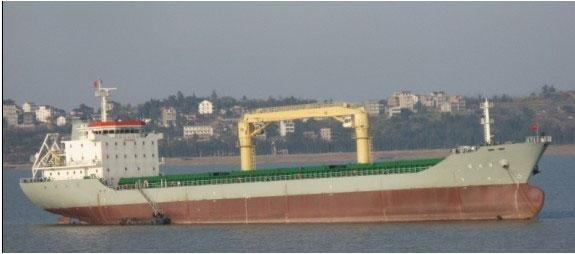Cargoship: (15, 72, 557, 230)
